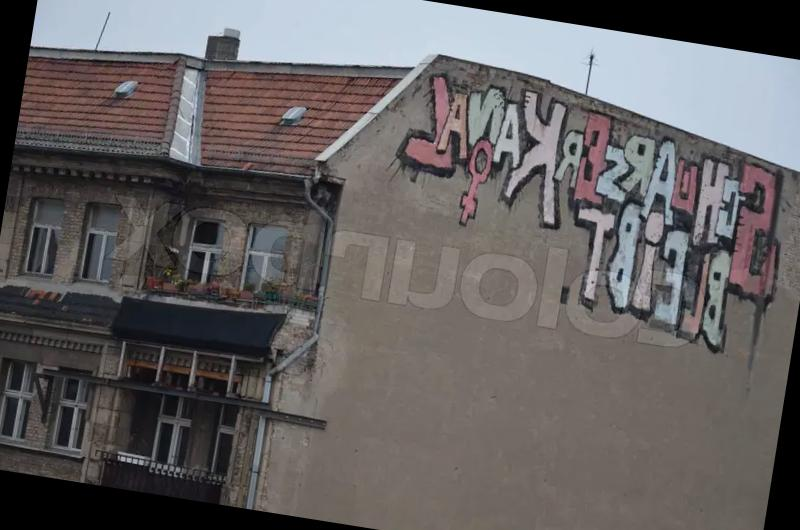graffiti: (400, 74, 782, 334)
